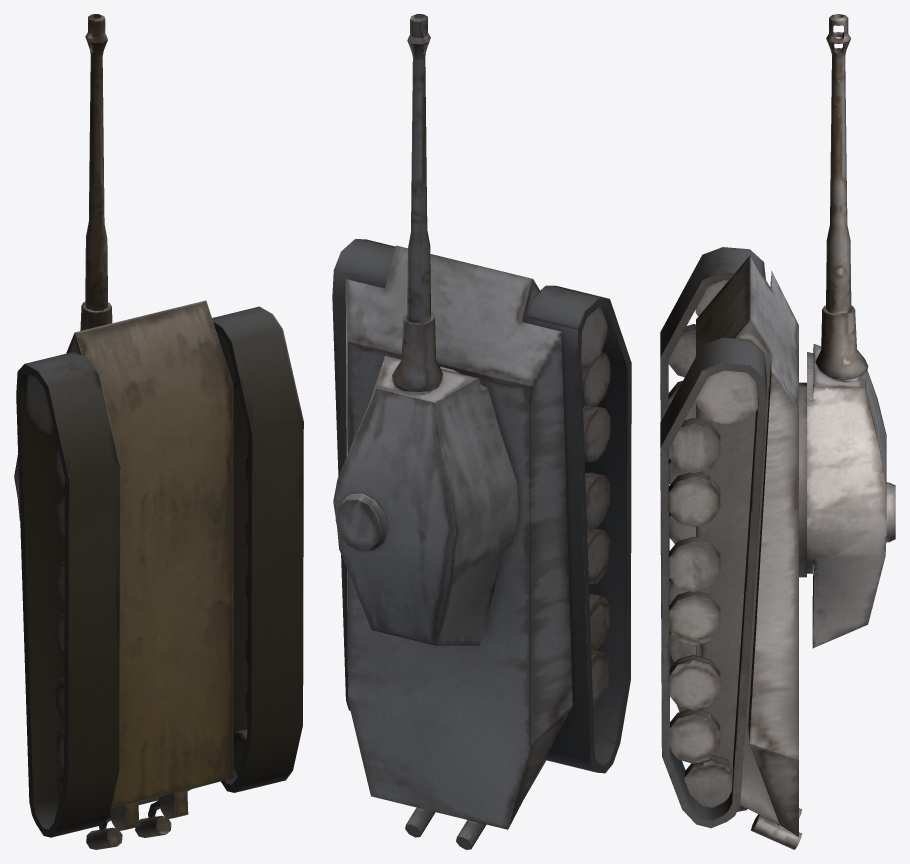
3 renders of one model, left to right at view 1: azimuth 30°, elevation 25°; view 2: azimuth 150°, elevation 25°; view 3: azimuth 270°, elevation 25°, orthographic. The views are drawn at different scales.
Visible parts, largest first — view 1: VK4502P_A Body, VK4502P_A Turret; view 2: VK4502P_A Body, VK4502P_A Turret; view 3: VK4502P_A Body, VK4502P_A Turret.
Boxes of the visible parts, left/top/right/bottom form: VK4502P_A Body: left=16, top=300, right=303, bottom=849; VK4502P_A Turret: left=14, top=14, right=112, bottom=520; VK4502P_A Body: left=332, top=239, right=631, bottom=849; VK4502P_A Turret: left=333, top=14, right=518, bottom=645; VK4502P_A Body: left=660, top=247, right=802, bottom=849; VK4502P_A Turret: left=799, top=14, right=895, bottom=648.
Size of the model in its own units: 130 by 429 by 112.
